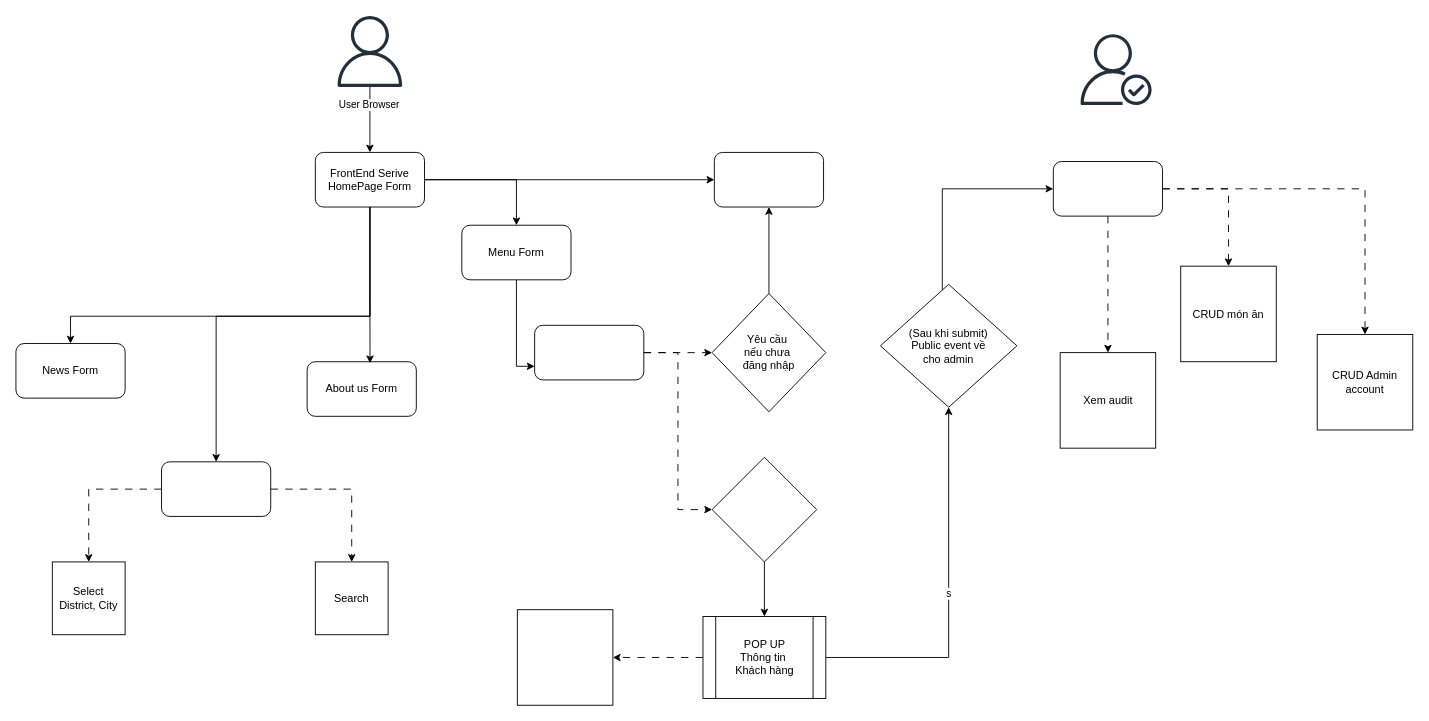
Some shapes in this 1429 by 721 pixel diagram are drawn without their labels. Each missing label, with the box of its shape:
(Option) không cần đăng nhập: (711, 456, 817, 562)
Admin System Form: (1052, 161, 1163, 216)
Login: (713, 152, 824, 207)
Payment Service: (534, 324, 644, 380)
Resturant Form: (161, 461, 271, 516)
Số điện thoại Tên khách hàng Địa chỉ: (516, 609, 613, 705)
